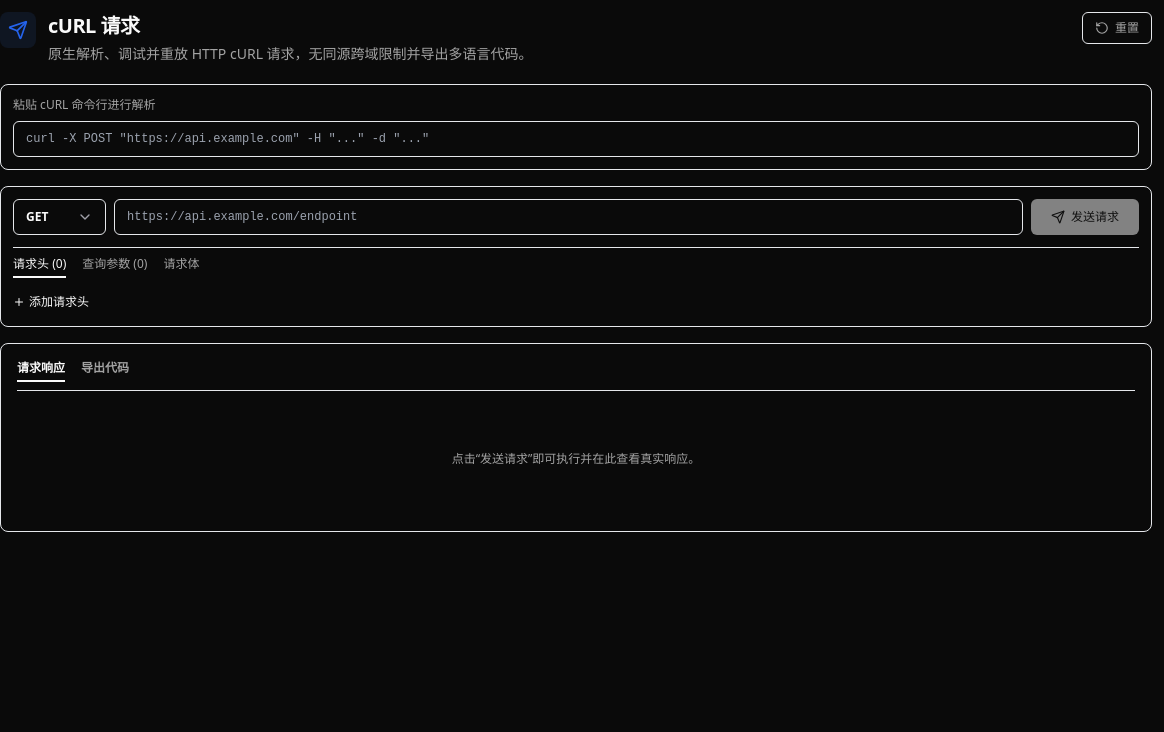
Test: CurlPlaygroundTool › switches to Code Export tab and generates typescript fetch code
Click the button "导出代码": (105, 371) [81, 360, 129, 382]
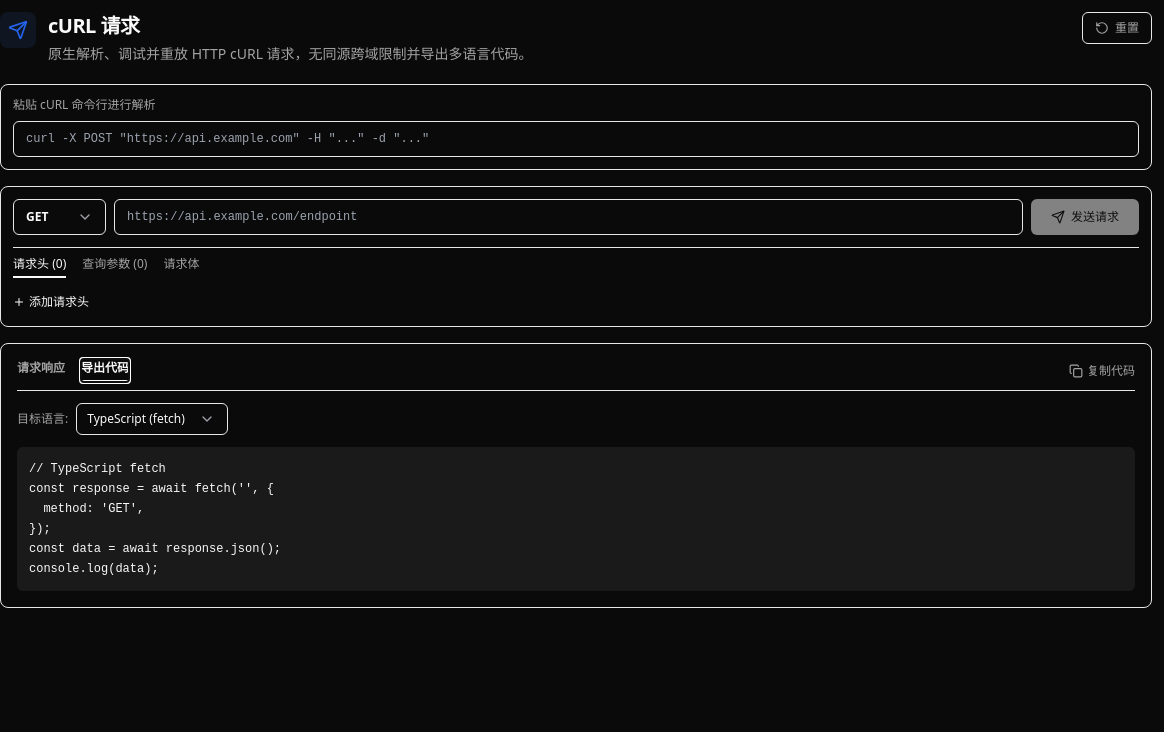
Expected: the text "TypeScript fetch" is shown, [29, 462, 281, 576]
